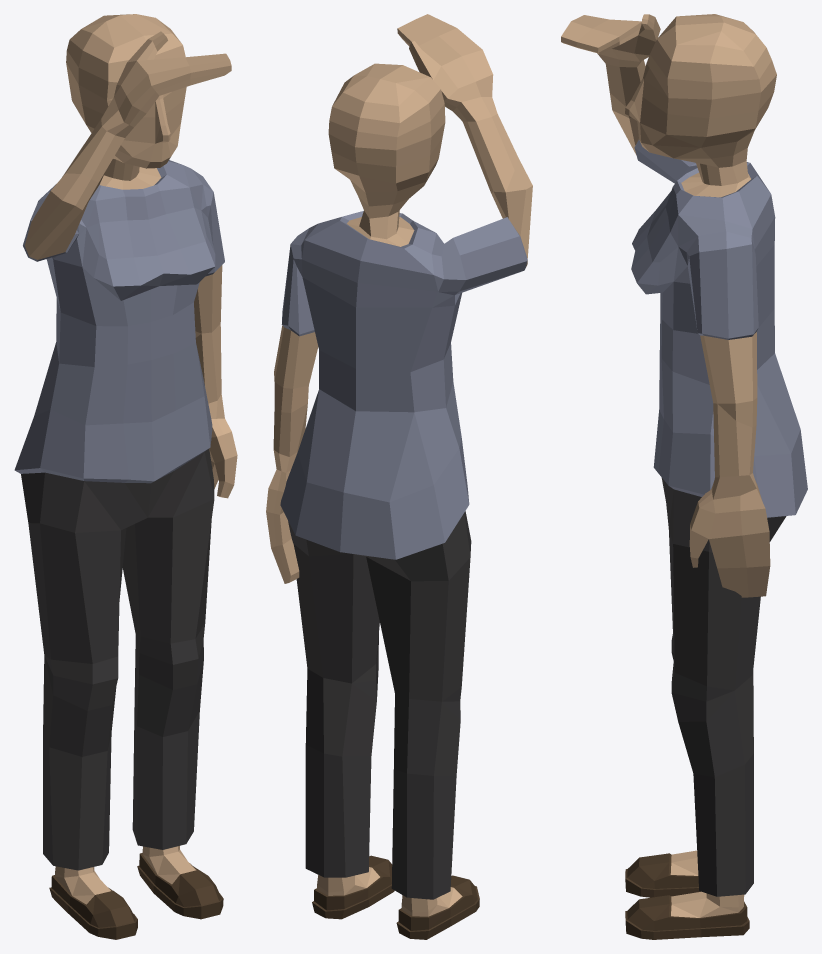
File: Female_Standing_CoveringEyes.glb
3 views of the same model, side by side, from view 1: azimuth 30°, elevation 25°; view 2: azimuth 150°, elevation 25°; view 3: azimuth 270°, elevation 25° (orthographic). The views are drawn at different scales.
Visible parts, largest first — view 1: Female_Standing_CoveringEyes; view 2: Female_Standing_CoveringEyes; view 3: Female_Standing_CoveringEyes.
Part boxes in pixels (box(x1,y1,x2,y2)): Female_Standing_CoveringEyes: box(14, 14, 237, 939); Female_Standing_CoveringEyes: box(266, 14, 532, 939); Female_Standing_CoveringEyes: box(561, 14, 807, 939).
Bounding box in the file's own units: 1.02 × 3.77 × 0.9409.
